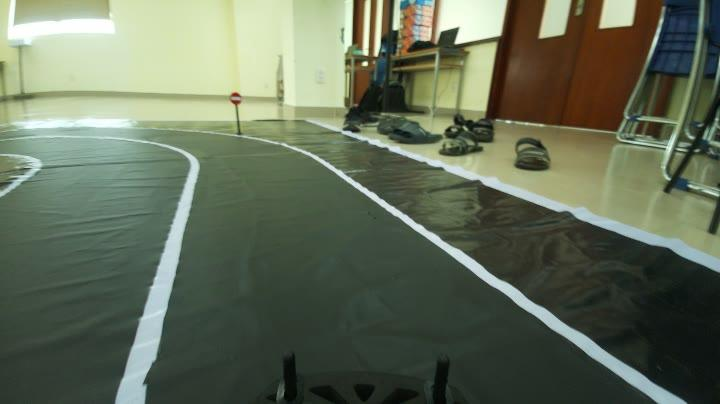no_entry: (225, 89, 246, 104)
